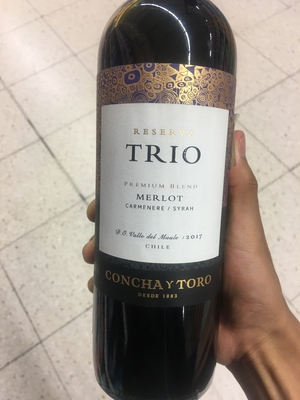trio merlot: (87, 12, 244, 377)
